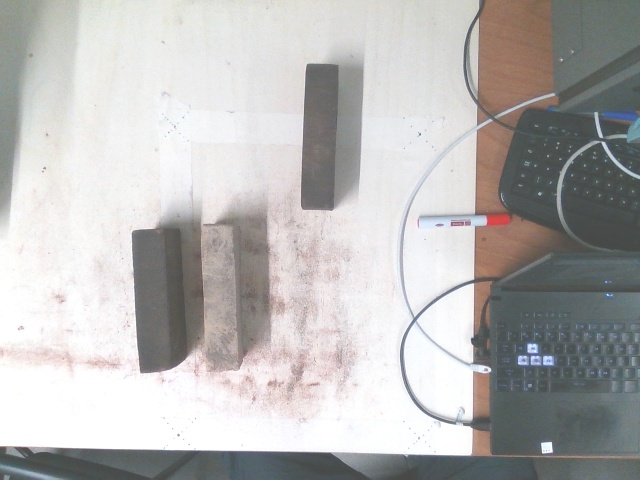brick-side: (199, 227, 240, 369), (300, 64, 335, 205), (133, 229, 166, 371)
